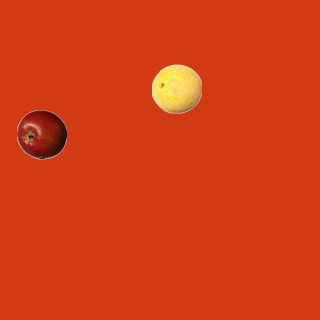Apple Braeburn: (16, 109, 66, 159)
Cantaloupe 1: (151, 63, 201, 113)
